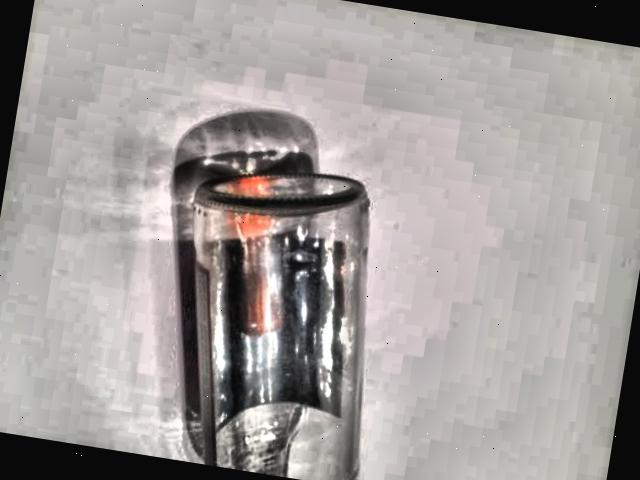Bottles: (150, 126, 424, 480)
